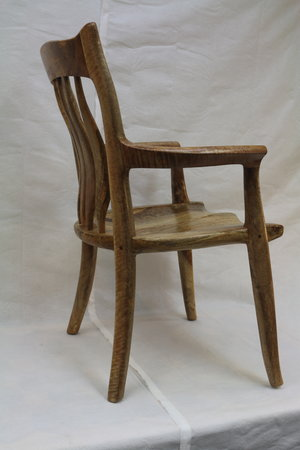chairs: (36, 22, 288, 405)
